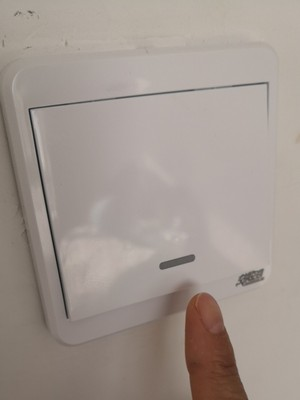switch: (23, 67, 279, 324)
